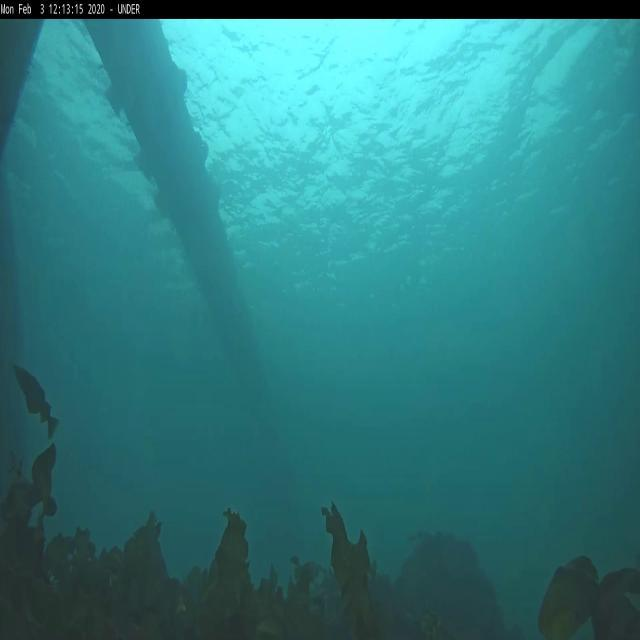fish: (13, 363, 58, 441)
